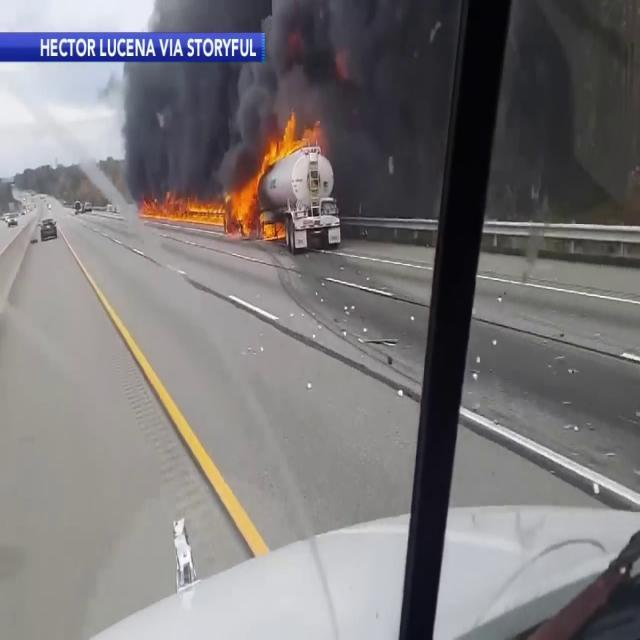Fire: (268, 110, 323, 165)
Smoke: (122, 0, 412, 166)
